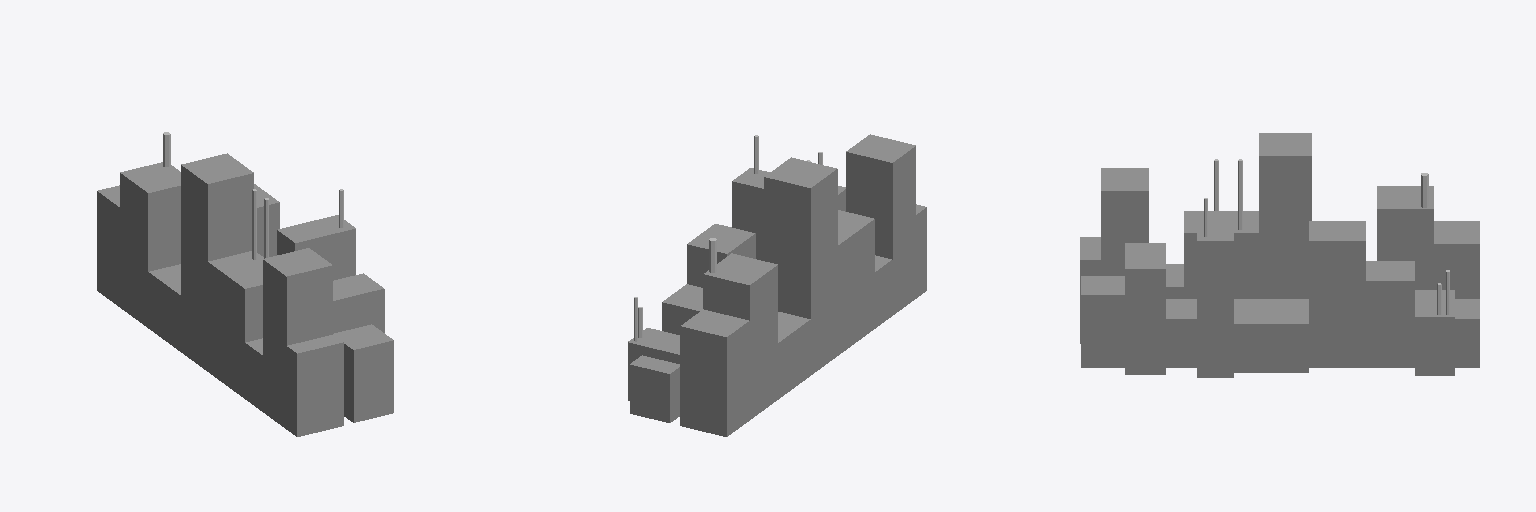
Rendered from city.obj.
3 renders of one model, left to right at view 1: azimuth 30°, elevation 25°; view 2: azimuth 150°, elevation 25°; view 3: azimuth 270°, elevation 25°, orthographic.
Visible parts, largest first — view 1: Cube, Cube.001; view 2: Cube, Cube.001; view 3: Cube.001, Cube.
Boxes of the visible parts, x1,y1,x2,y2 form: Cube: [97, 153, 343, 436]; Cube.001: [254, 184, 393, 422]; Cube: [680, 134, 926, 436]; Cube.001: [628, 168, 845, 422]; Cube.001: [1081, 211, 1479, 377]; Cube: [1080, 133, 1479, 343].
Size of the model in its own units: 5.07 by 7.72 by 14.94.